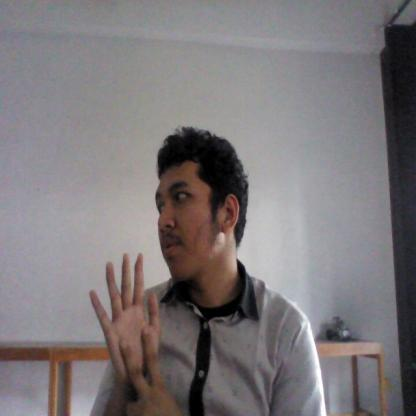N: (84, 249, 176, 415)
